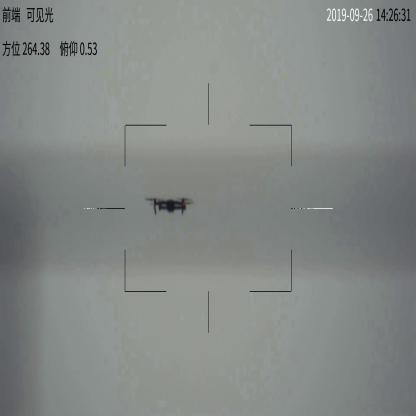uav: (146, 195, 193, 215)
